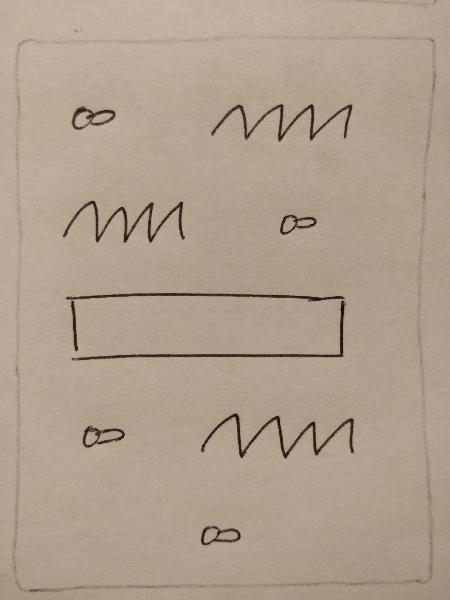switch: (67, 410, 144, 456), (62, 95, 127, 139), (264, 203, 327, 244), (193, 515, 250, 552)
text: (194, 404, 362, 462), (201, 90, 357, 151), (56, 192, 195, 250)
text_input: (52, 285, 364, 375)
